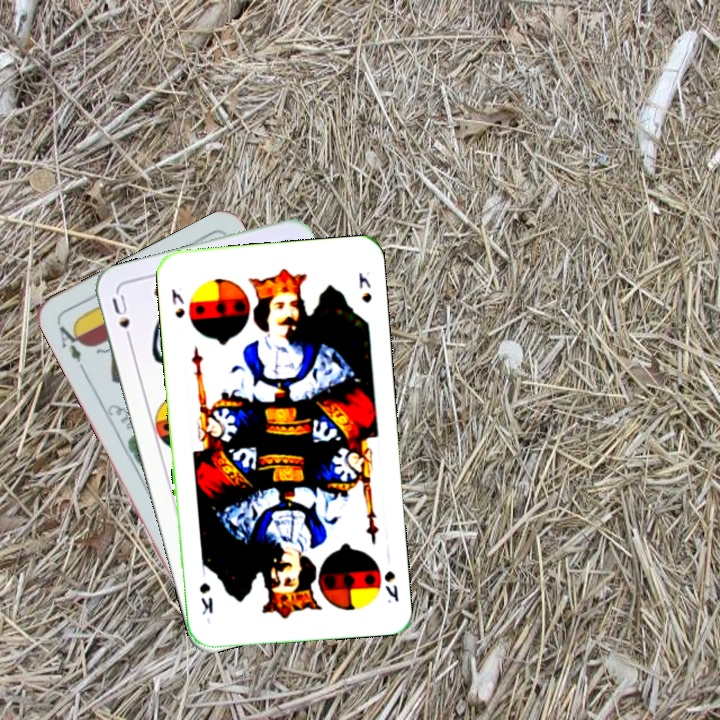EA: (54, 320, 88, 365)
SK: (380, 567, 402, 605), (167, 284, 187, 321)
SU: (108, 290, 136, 348)
